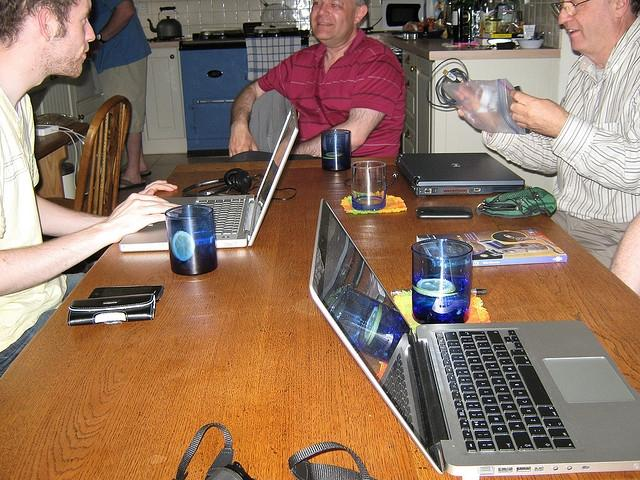lemon: (170, 231, 196, 261), (364, 305, 382, 345), (416, 278, 456, 294), (326, 152, 343, 158)
